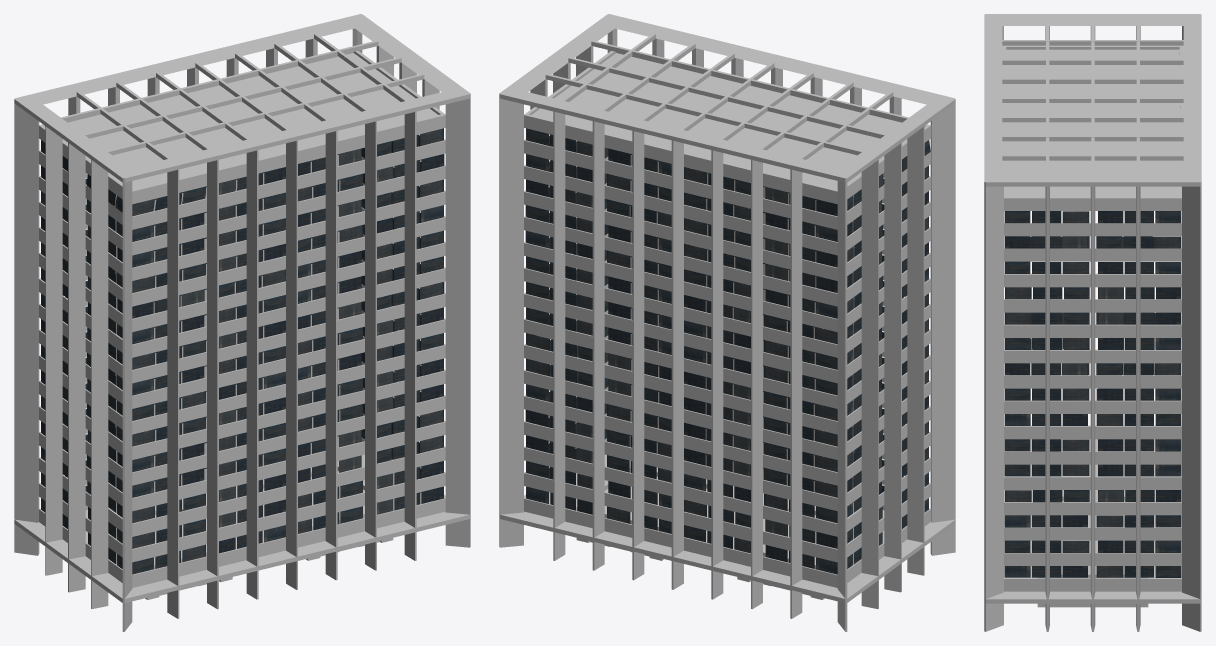
3 renders of one model, left to right at view 1: azimuth 30°, elevation 25°; view 2: azimuth 150°, elevation 25°; view 3: azimuth 270°, elevation 25°, orthographic.
Parts seen in each view (by area): view 1: BC-005; view 2: BC-005; view 3: BC-005.
Boxes of the visible parts, x1,y1,x2,y2 form: BC-005: (14, 14, 470, 631); BC-005: (499, 14, 955, 631); BC-005: (984, 14, 1201, 631).
Size of what is drawn, in the model's own units: 44 by 54.8 by 24.
